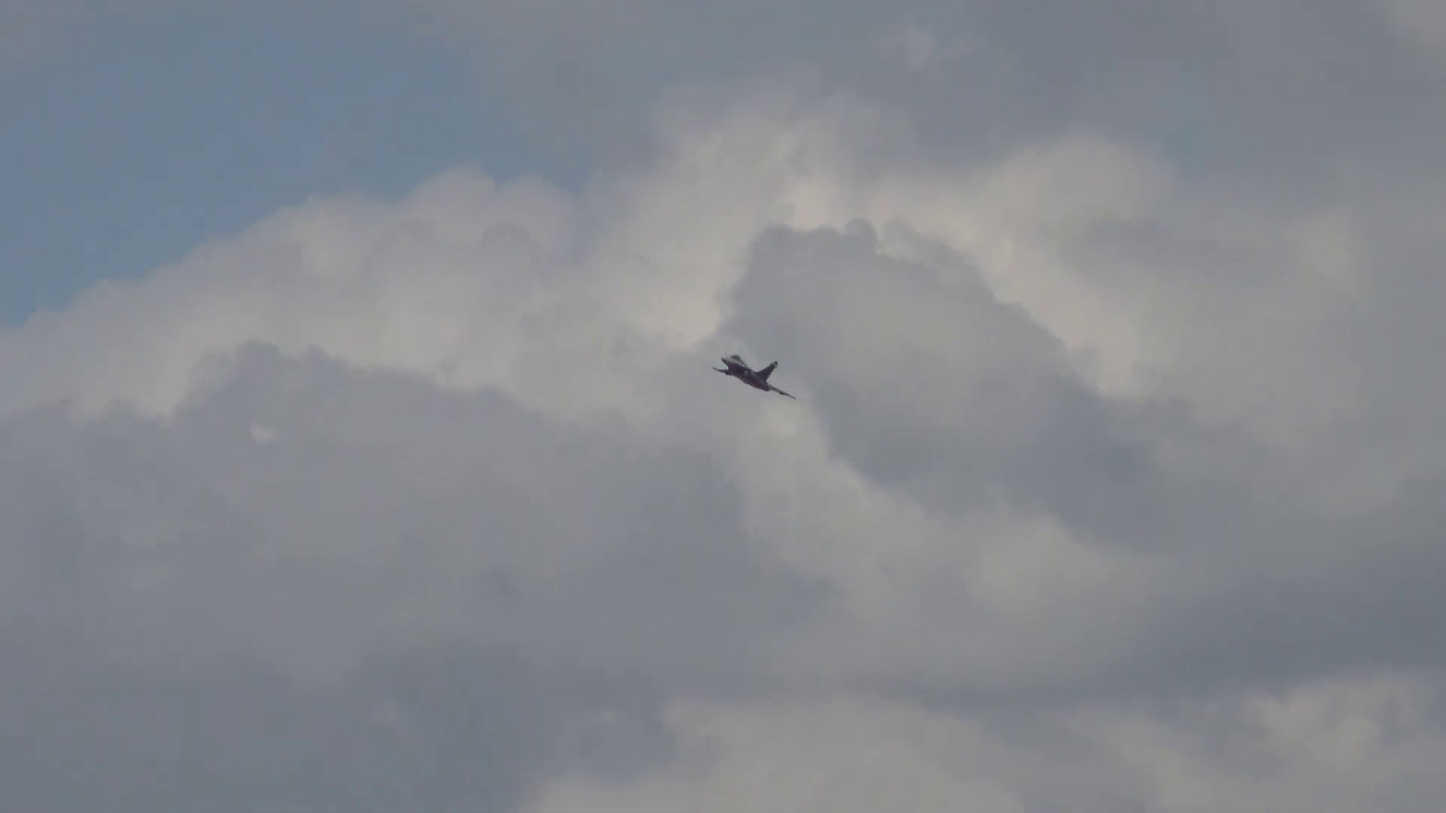Rafale: (716, 354, 798, 399)
